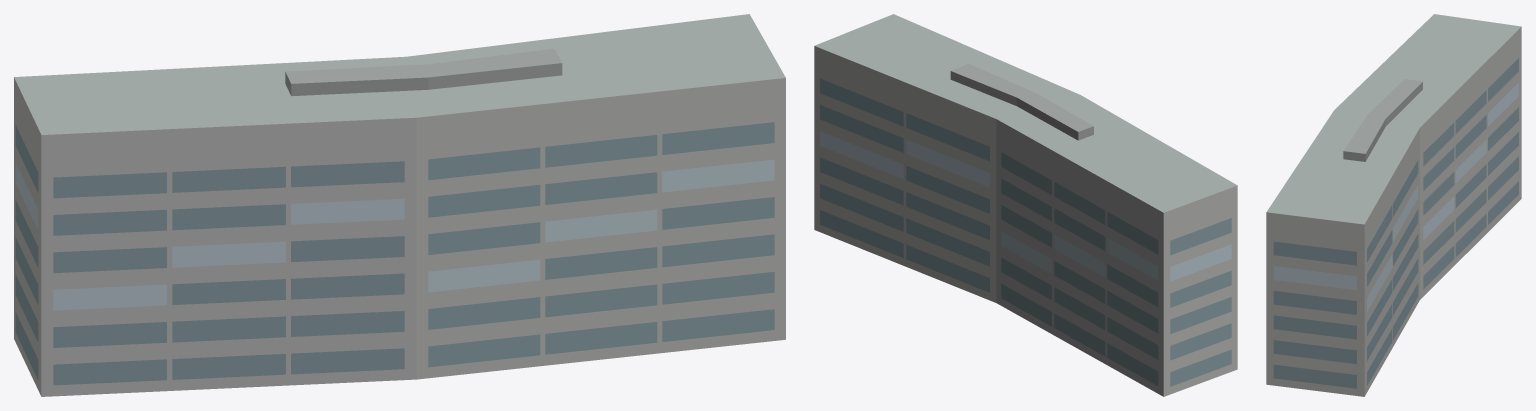
Rendered from fallback-dmc-raemian-e-pyeonhansesang-211.glb.
3 views of the same model, side by side, from view 1: azimuth 30°, elevation 25°; view 2: azimuth 150°, elevation 25°; view 3: azimuth 270°, elevation 25° (orthographic). The views are drawn at different scales.
Parts seen in each view (by area): view 1: fallback-dmc-raemian-e-pyeonhansesang-211; view 2: fallback-dmc-raemian-e-pyeonhansesang-211; view 3: fallback-dmc-raemian-e-pyeonhansesang-211.
Boxes of the visible parts, <box> form: fallback-dmc-raemian-e-pyeonhansesang-211: <box>14,14,785,396</box>; fallback-dmc-raemian-e-pyeonhansesang-211: <box>814,14,1237,396</box>; fallback-dmc-raemian-e-pyeonhansesang-211: <box>1266,14,1521,396</box>.
Bounding box in the file's own units: 52.51 × 21 × 26.91.
